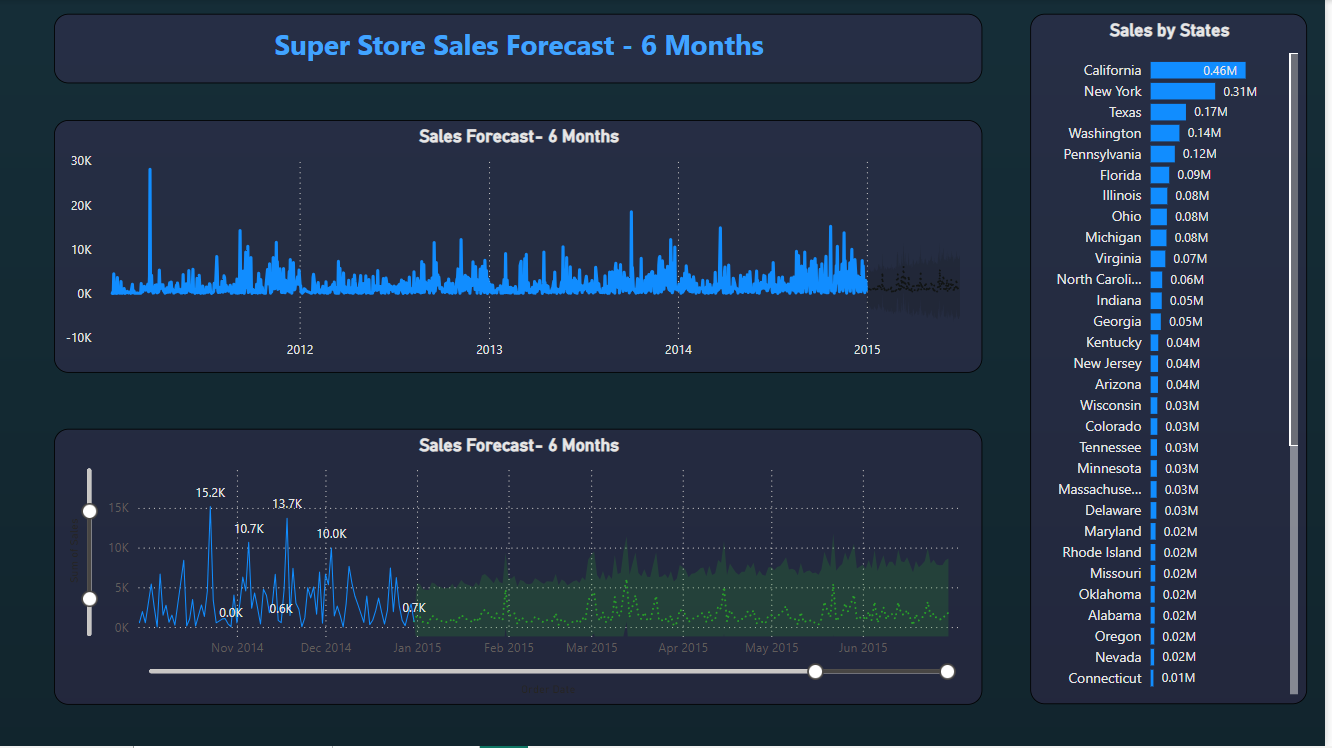

This screenshot's page, from the dashboard's own definition file:
{"tool":"powerbi","page":{"name":"Sales Forecast","canvas":[1280,720],"ordinal":1},"visuals":[{"type":"lineChart","title":"Sales Forecast- 6 Months","fields":{"Y":["Sum(Superstore.Sales)"],"Category":["Superstore.Order Date"]},"box":[52.5,116.2,896.2,243.8],"z":0},{"type":"lineChart","title":"Sales Forecast- 6 Months","fields":{"Y":["Sum(Superstore.Sales)"],"Category":["Superstore.Order Date"]},"box":[52.5,413.8,896.2,266.2],"z":1000},{"type":"clusteredBarChart","title":"Sales by States","fields":{"Y":["Sum(Superstore.Sales)"],"Category":["Superstore.State"]},"box":[995,13.8,267.5,666.2],"z":2000},{"type":"textbox","box":[52.5,13.8,896.2,67.5],"z":3000}]}

Visuals, with their boxes in screenshot pixels (x1, y1, x2, y2), scaled from the page's 1280x720 canvas onto the 1332x748 screenshot:
"Sales Forecast- 6 Months" lineChart: rect(55, 121, 987, 374)
"Sales Forecast- 6 Months" lineChart: rect(55, 430, 987, 706)
"Sales by States" clusteredBarChart: rect(1035, 14, 1314, 706)
textbox: rect(55, 14, 987, 84)
